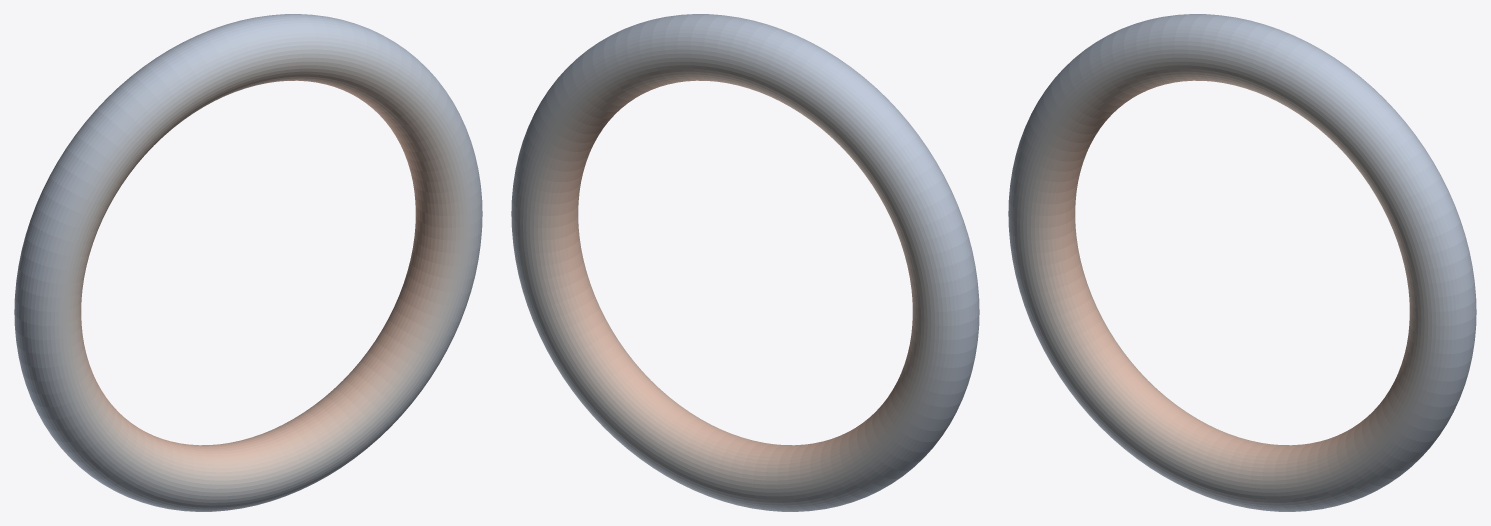
3 renders of one model, left to right at view 1: azimuth 30°, elevation 25°; view 2: azimuth 150°, elevation 25°; view 3: azimuth 330°, elevation 25°, orthographic.
Visible parts, largest first — view 1: world; view 2: world; view 3: world.
Boxes of the visible parts, <box> form: world: <box>14,14,482,511</box>; world: <box>511,14,979,511</box>; world: <box>1008,14,1476,511</box>.
Size of the model in its own units: 32.8 by 32.8 by 4.13.
